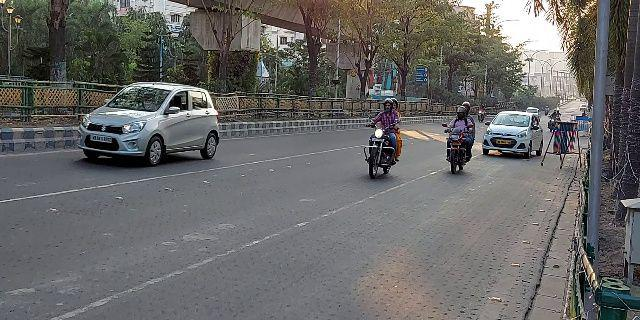Car: (76, 79, 226, 167), (480, 109, 545, 163)
Motorbike: (359, 95, 407, 182), (440, 99, 476, 174)
